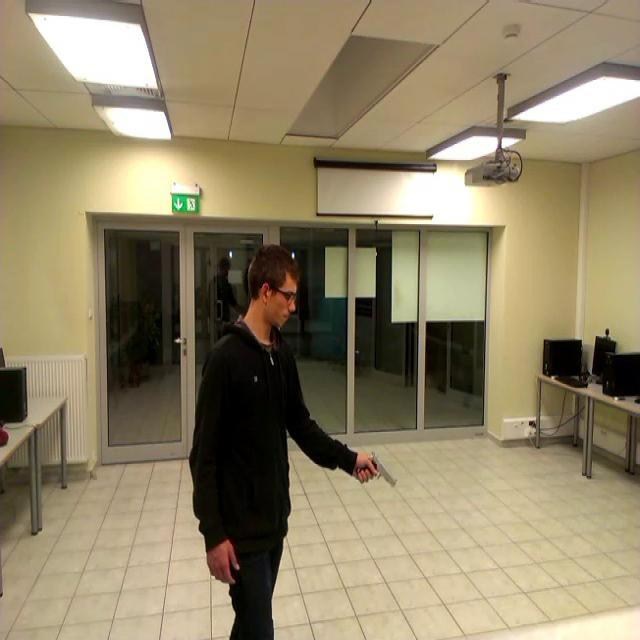weapon: (356, 451, 396, 487)
